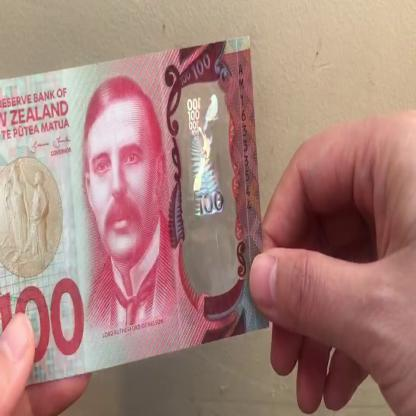100F: (183, 89, 229, 274)
